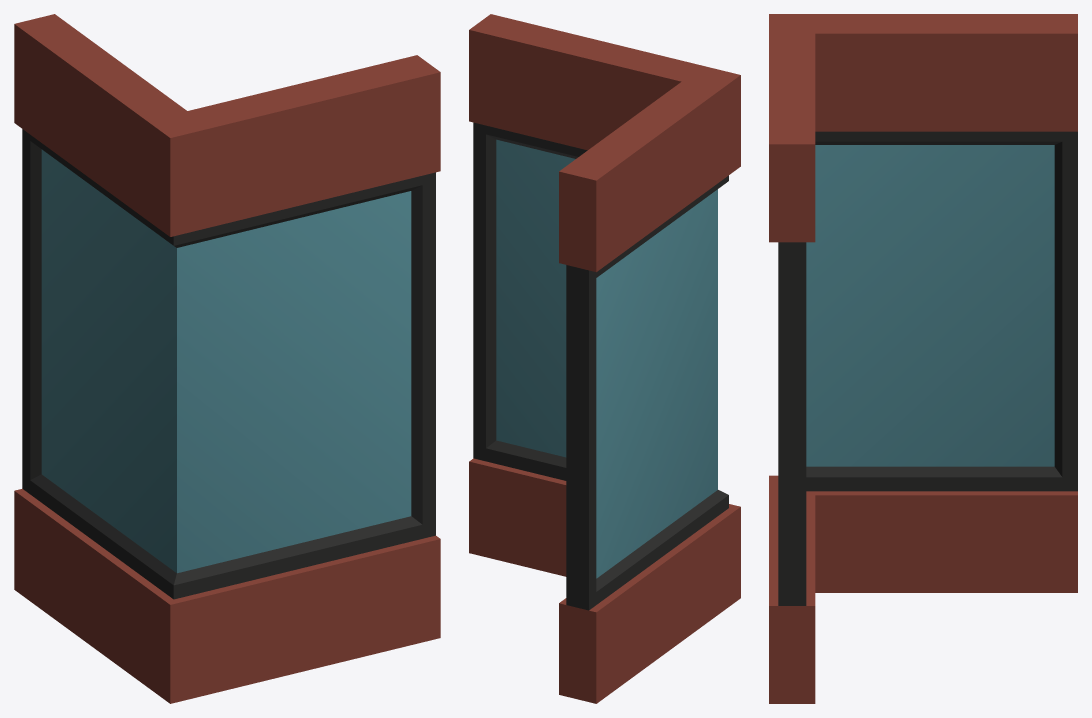
The model's file is trimWindowCorner.fbx.
3 renders of one model, left to right at view 1: azimuth 30°, elevation 25°; view 2: azimuth 150°, elevation 25°; view 3: azimuth 270°, elevation 25°, orthographic. The views are drawn at different scales.
Parts seen in each view (by area): view 1: trimWindowCorner; view 2: trimWindowCorner; view 3: trimWindowCorner.
Boxes of the visible parts, <box> form: trimWindowCorner: <box>14,14,440,703</box>; trimWindowCorner: <box>469,14,740,703</box>; trimWindowCorner: <box>769,14,1077,703</box>.
Bounding box in the file's own units: 200 × 400 × 200.
1 material, 1 textured.
